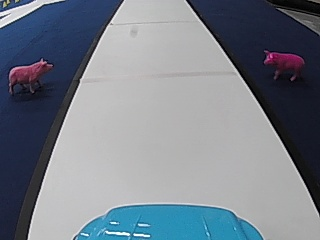pig: (5, 56, 53, 95), (259, 47, 305, 81)
